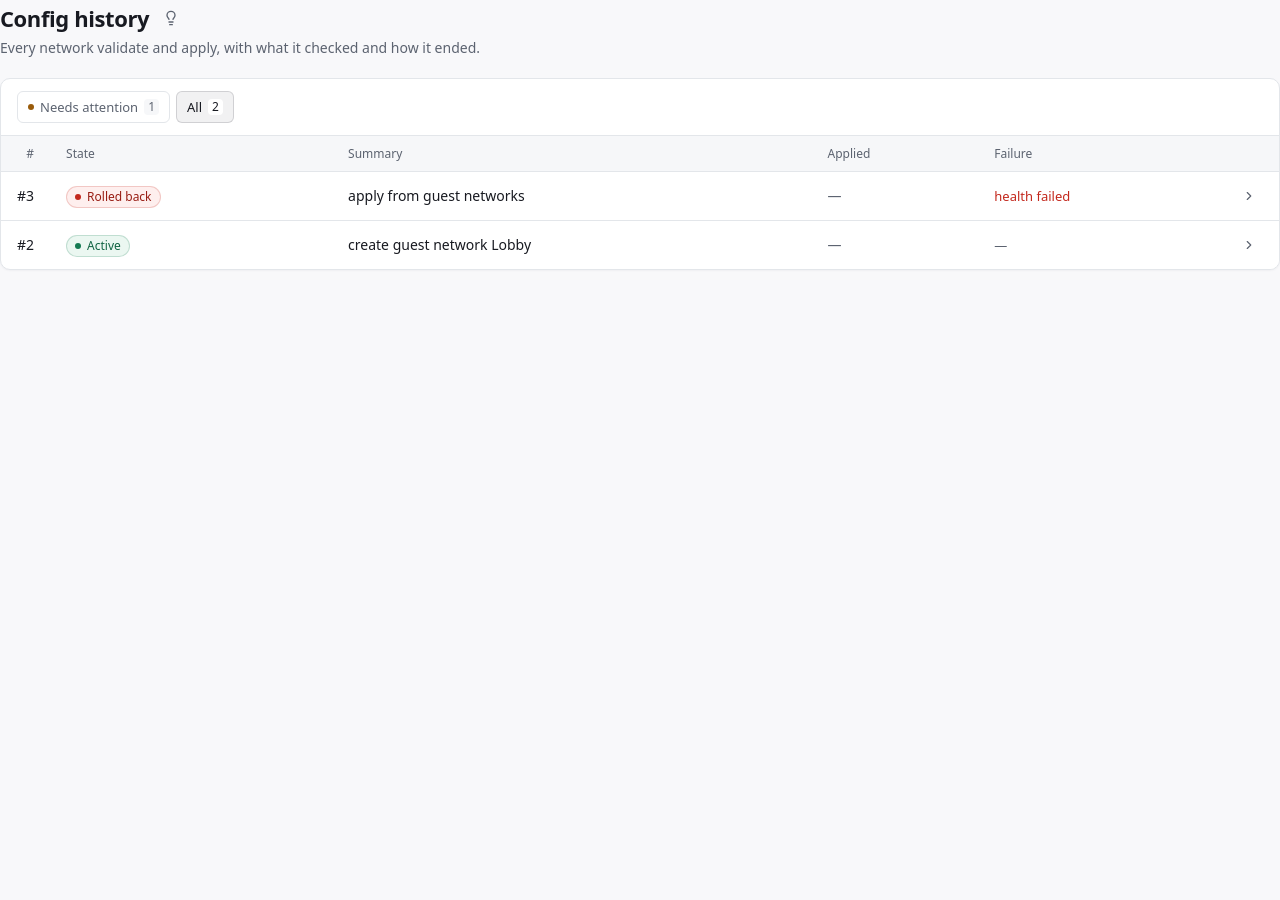
Test: Config history › filters to what needs attention and opens a revision's checks in a side sheet
Expected: the text "#2" is shown, [1,221,50,269]
Click the radio button labelled "Needs attention 1": (94, 107) [17,91,170,123]
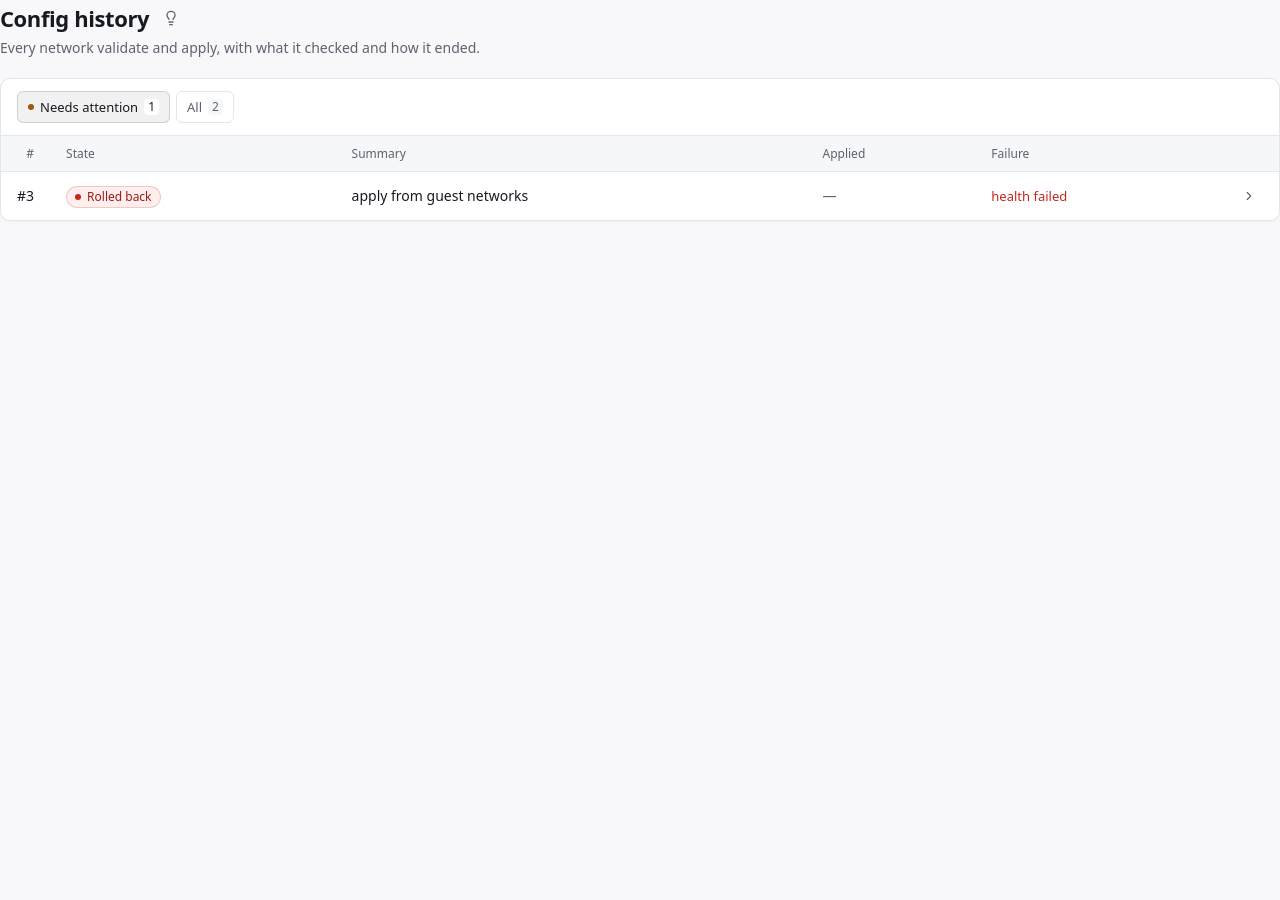
Result: the text "#2" is gone
Click the button named "Details for revision 3": (1249, 196) [1235,182,1263,210]
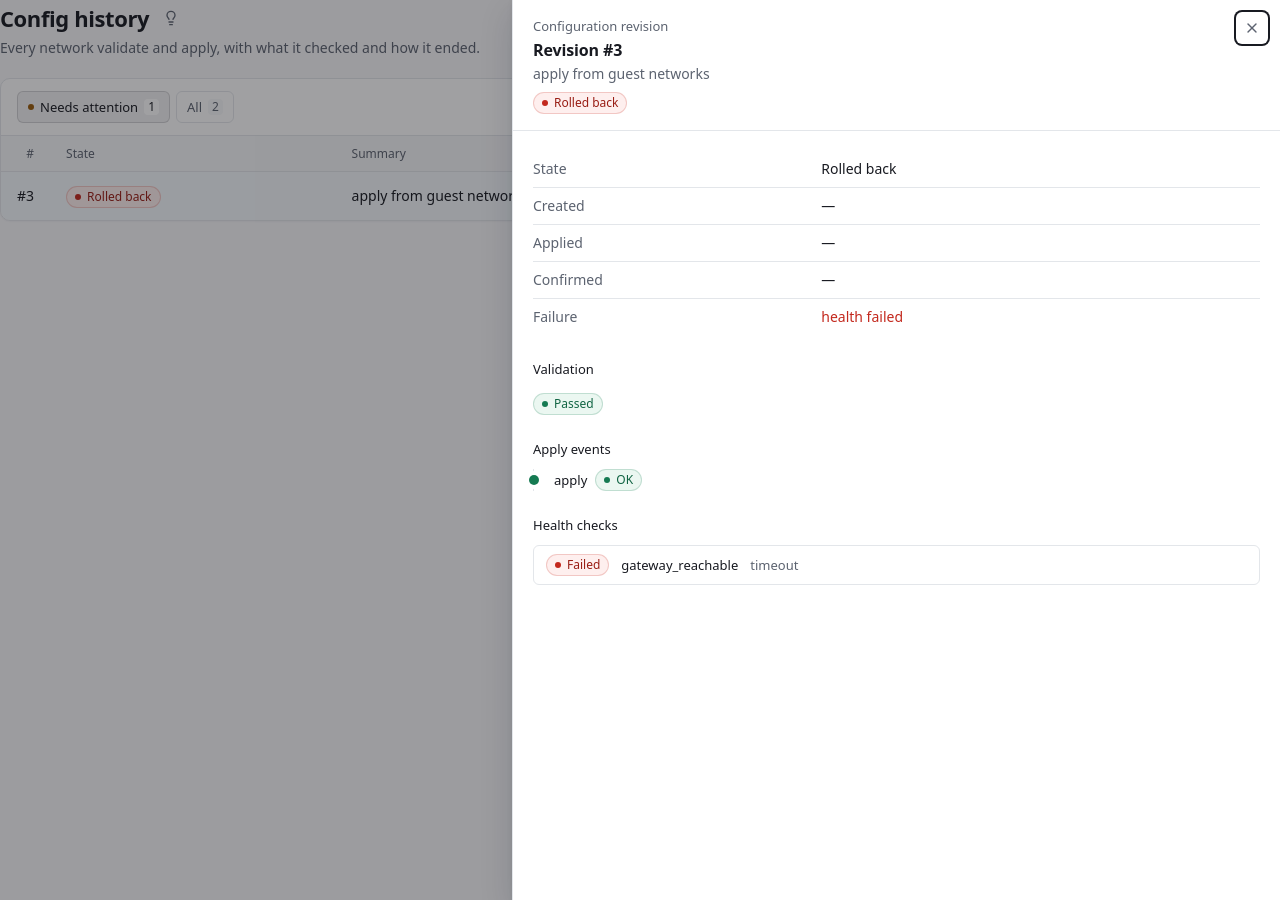
Result: the text "gateway_reachable" is shown at [621,555,738,575]
Result: the heading "Health checks" is shown at [533,515,618,535]
